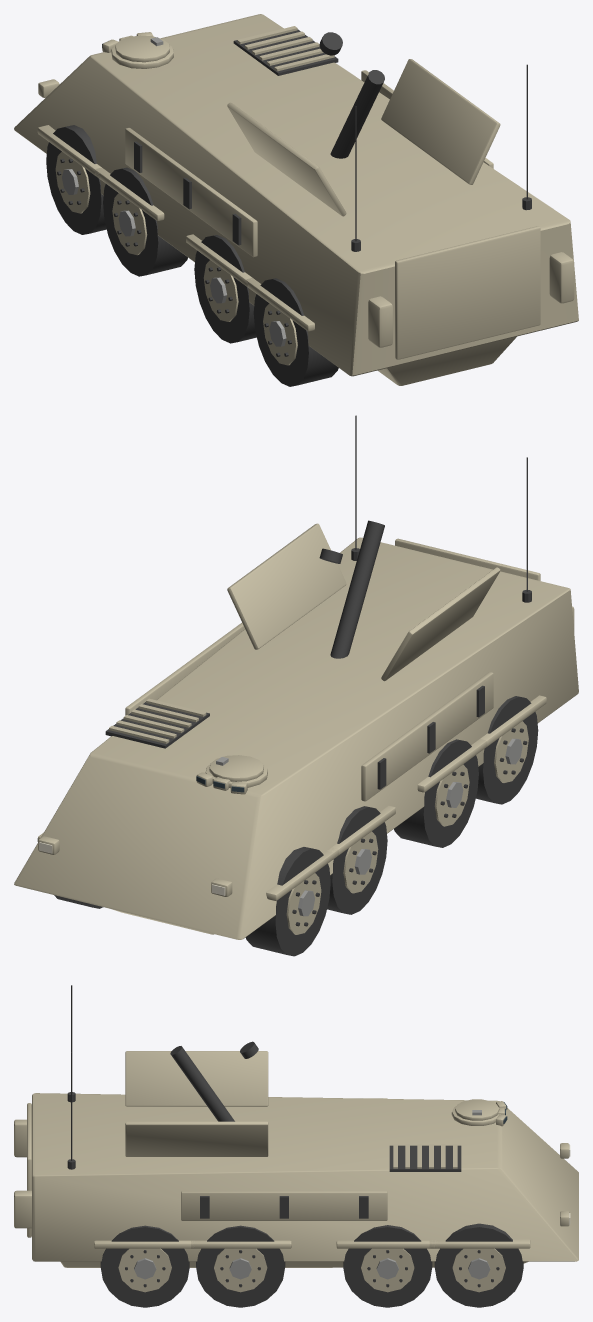
Rendered from usa_mor_1129.glb.
The picture shows the model from 3 angles, top to bottom: view 1: azimuth 30°, elevation 25°; view 2: azimuth 150°, elevation 25°; view 3: azimuth 270°, elevation 25°; orthographic projection. The views are drawn at different scales.
Parts seen in each view (by area): view 1: body, wheel_2, wheel_6, wheel_0, wheel_4, barrel; view 2: body, wheel_0, wheel_4, wheel_6, wheel_2, barrel; view 3: body, wheel_1, wheel_3, wheel_5, wheel_7, barrel.
Part boxes in pixels (left/top/right/bottom): body: left=14, top=14, right=578, bottom=385; wheel_2: left=103, top=167, right=187, bottom=276; wheel_6: left=253, top=278, right=338, bottom=386; wheel_0: left=46, top=125, right=106, bottom=234; wheel_4: left=194, top=235, right=256, bottom=343; barrel: left=319, top=32, right=384, bottom=158; body: left=14, top=415, right=578, bottom=939; wheel_0: left=245, top=847, right=330, bottom=956; wheel_4: left=394, top=739, right=478, bottom=847; wheel_6: left=475, top=696, right=538, bottom=804; wheel_2: left=327, top=806, right=387, bottom=914; barrel: left=319, top=520, right=384, bottom=658; body: left=14, top=985, right=578, bottom=1267; wheel_1: left=434, top=1223, right=523, bottom=1307; wheel_3: left=343, top=1225, right=432, bottom=1307; wheel_5: left=196, top=1225, right=285, bottom=1307; wheel_7: left=100, top=1225, right=189, bottom=1307; barrel: left=170, top=1041, right=258, bottom=1121.
Size of the model in its own units: 2.88 by 3.38 by 7.1.
